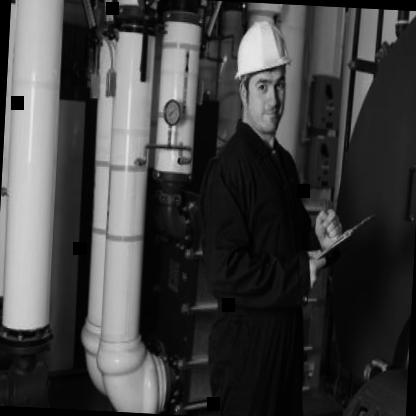helmet: (224, 5, 297, 143)
